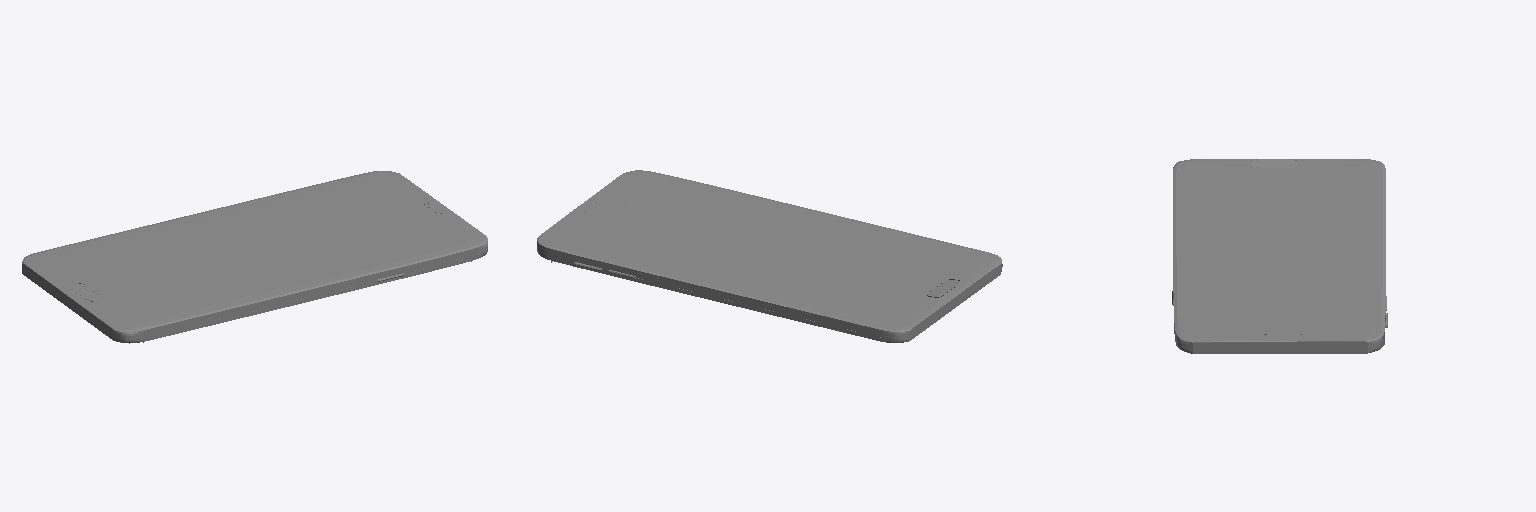
The model's file is prime3.obj.
3 renders of one model, left to right at view 1: azimuth 30°, elevation 25°; view 2: azimuth 150°, elevation 25°; view 3: azimuth 270°, elevation 25°, orthographic.
Parts seen in each view (by area): view 1: Object001, prime; view 2: Object001, prime; view 3: Object001, prime.
Part boxes in pixels (left/top/right/bottom): Object001: left=22, top=171, right=487, bottom=340; prime: left=22, top=197, right=487, bottom=343; Object001: left=537, top=170, right=1002, bottom=339; prime: left=537, top=179, right=1001, bottom=342; Object001: left=1173, top=159, right=1385, bottom=349; prime: left=1172, top=159, right=1387, bottom=353.
Size of the model in its own units: 6.88 by 0.3023 by 3.42.